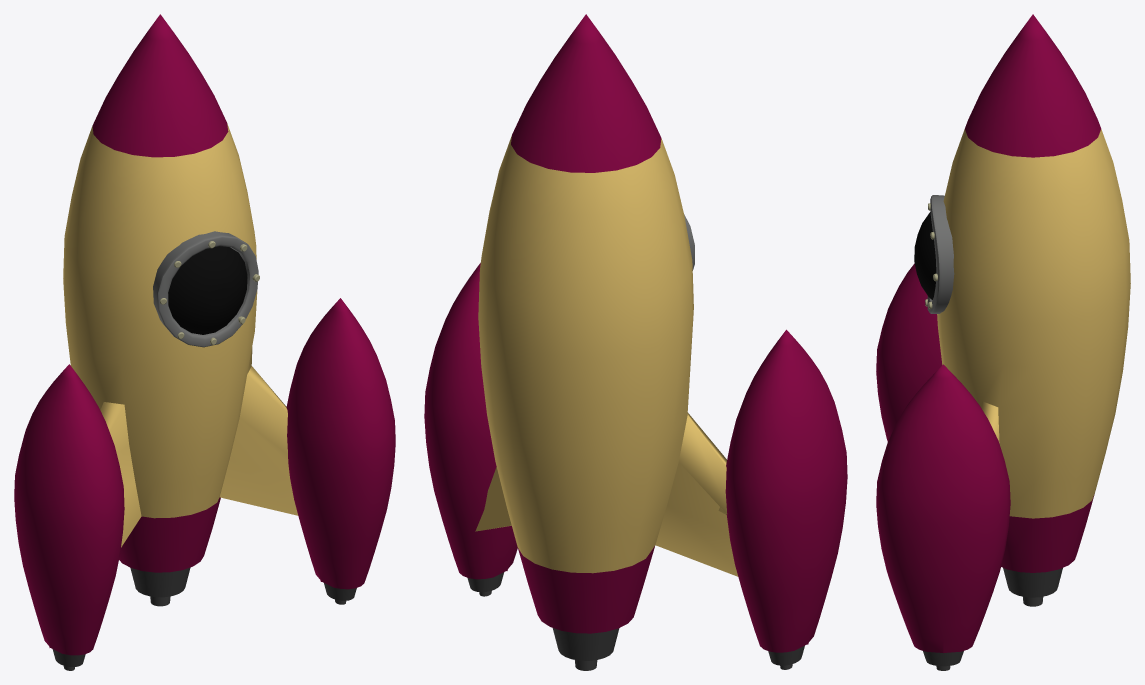
The model's file is Rocket.fbx.
3 renders of one model, left to right at view 1: azimuth 30°, elevation 25°; view 2: azimuth 150°, elevation 25°; view 3: azimuth 270°, elevation 25°, orthographic. The views are drawn at different scales.
Parts seen in each view (by area): view 1: Rocket, BoosterL, BoosterR, polySurface2, polySurface1, pCylinder1; view 2: Rocket, BoosterL, BoosterR, pCylinder1; view 3: Rocket, BoosterR, BoosterL, polySurface1, polySurface2, pCylinder1, pCylinder11.
Boxes of the visible parts, x1,y1,x2,y2 form: Rocket: (63,14,298,572); BoosterL: (14,364,124,655); BoosterR: (286,298,395,589); polySurface2: (168,246,247,334); polySurface1: (153,231,258,347); pCylinder1: (130,567,190,597); Rocket: (475,14,738,633); BoosterL: (725,329,847,652); BoosterR: (424,263,517,579); pCylinder1: (552,628,619,660); Rocket: (937,14,1130,572); BoosterR: (876,364,1010,653); BoosterL: (876,263,942,441); polySurface1: (927,195,954,313); polySurface2: (914,212,936,299); pCylinder1: (1003,568,1062,597); pCylinder11: (923,651,963,666).
Size of the model in its own units: 1.14 by 1.78 by 0.6981.
